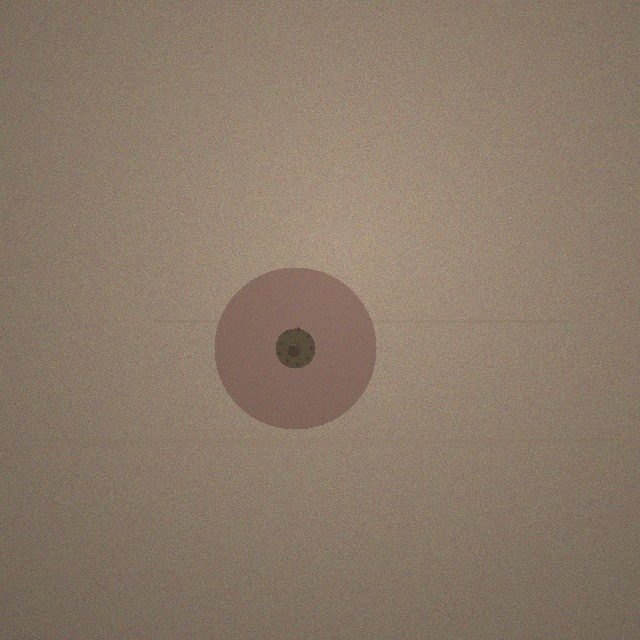cold_weld: (214, 267, 376, 429)
